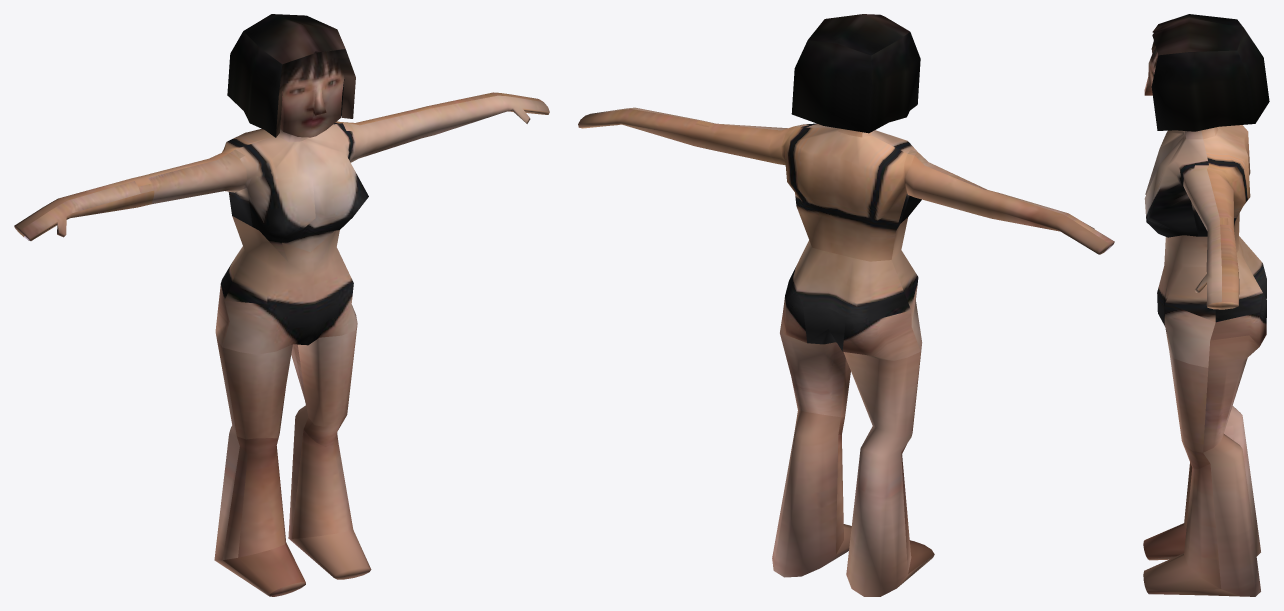
The model's file is female-tpose (1).fbx.
3 renders of one model, left to right at view 1: azimuth 30°, elevation 25°; view 2: azimuth 150°, elevation 25°; view 3: azimuth 270°, elevation 25°, orthographic.
Visible parts, largest first — view 1: Cube.003; view 2: Cube.003; view 3: Cube.003.
Part boxes in pixels (<box>): Cube.003: <box>14,14,549,596</box>; Cube.003: <box>578,14,1114,596</box>; Cube.003: <box>1143,14,1269,596</box>.
Size of the model in its own units: 1240 by 1244 by 257.
